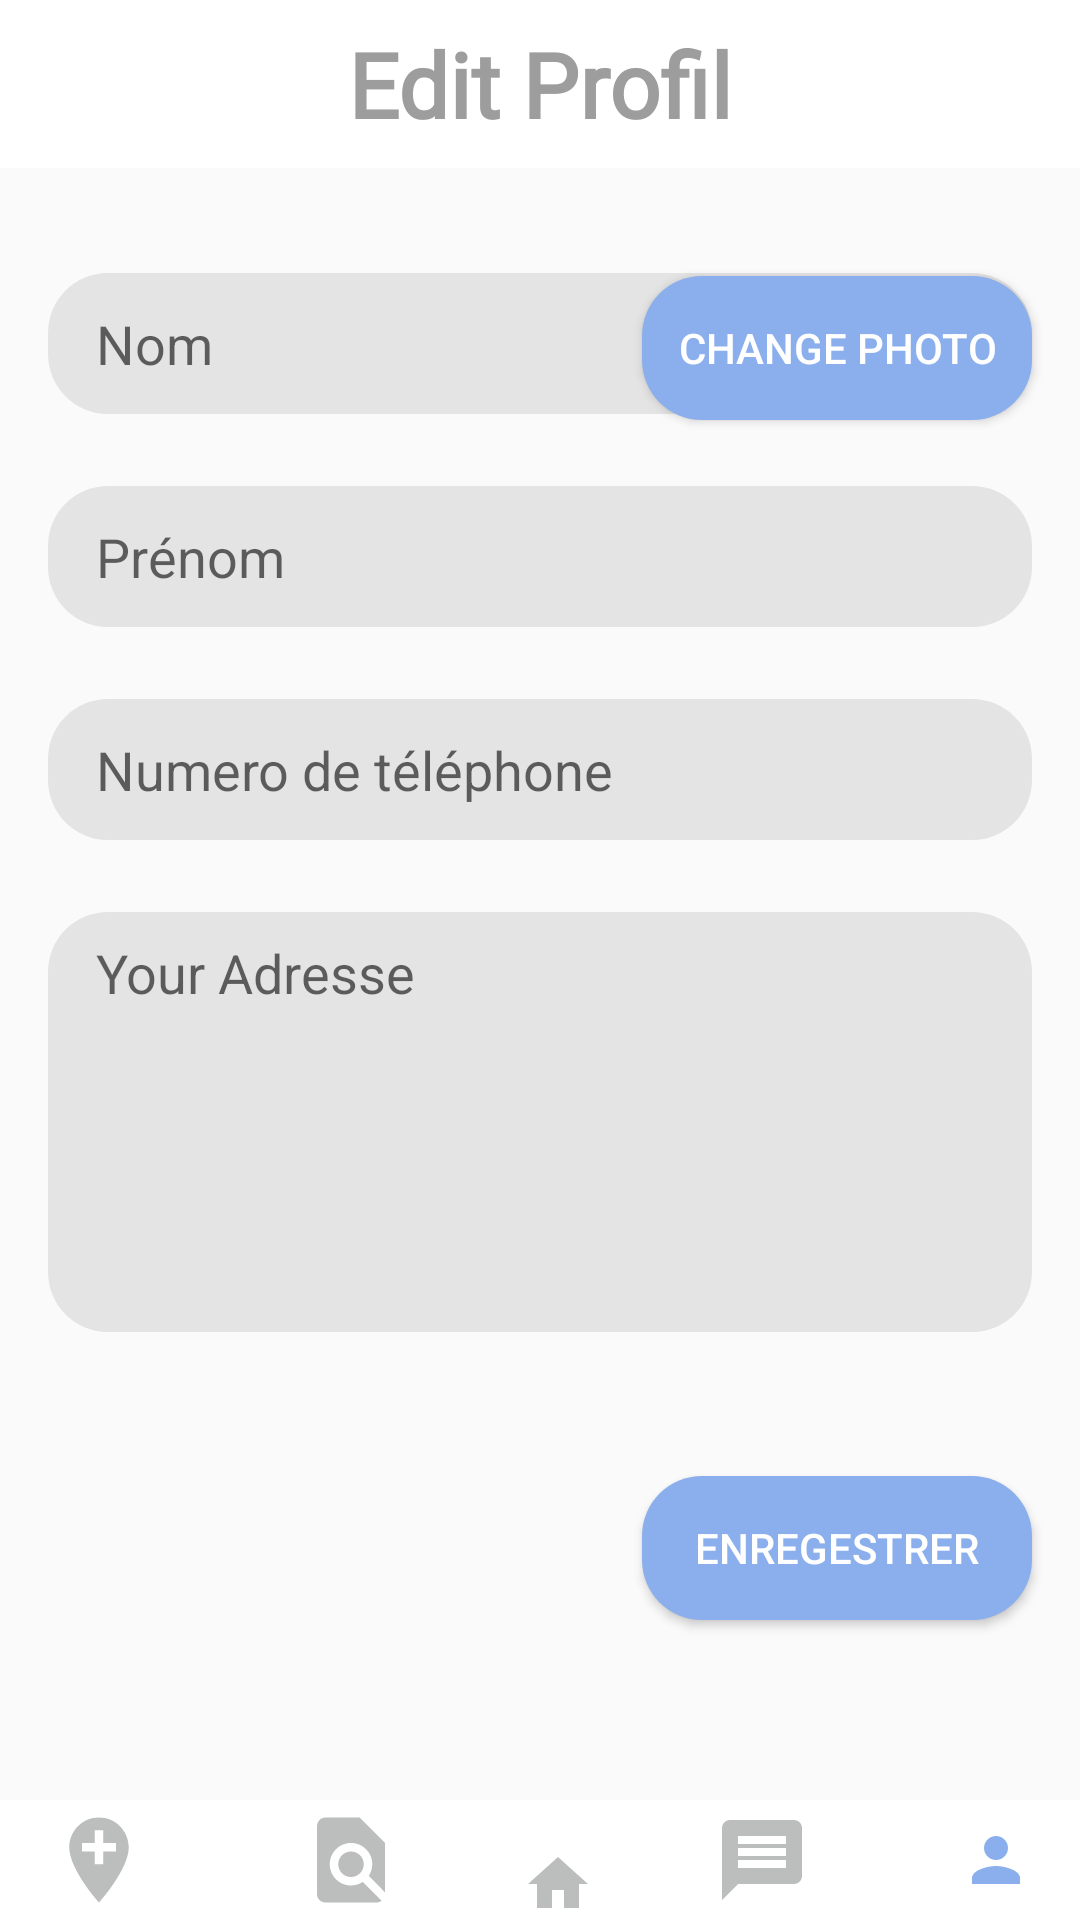

Icon bounding boxes for this 1080 × 1920 phone screenshot, format (x1, y1, x2, y2):
add location gris: (69, 1817, 129, 1902)
find in page gris: (317, 1817, 385, 1903)
home gris: (528, 1857, 588, 1908)
message gris: (722, 1820, 802, 1900)
person gris: (972, 1836, 1020, 1884)
